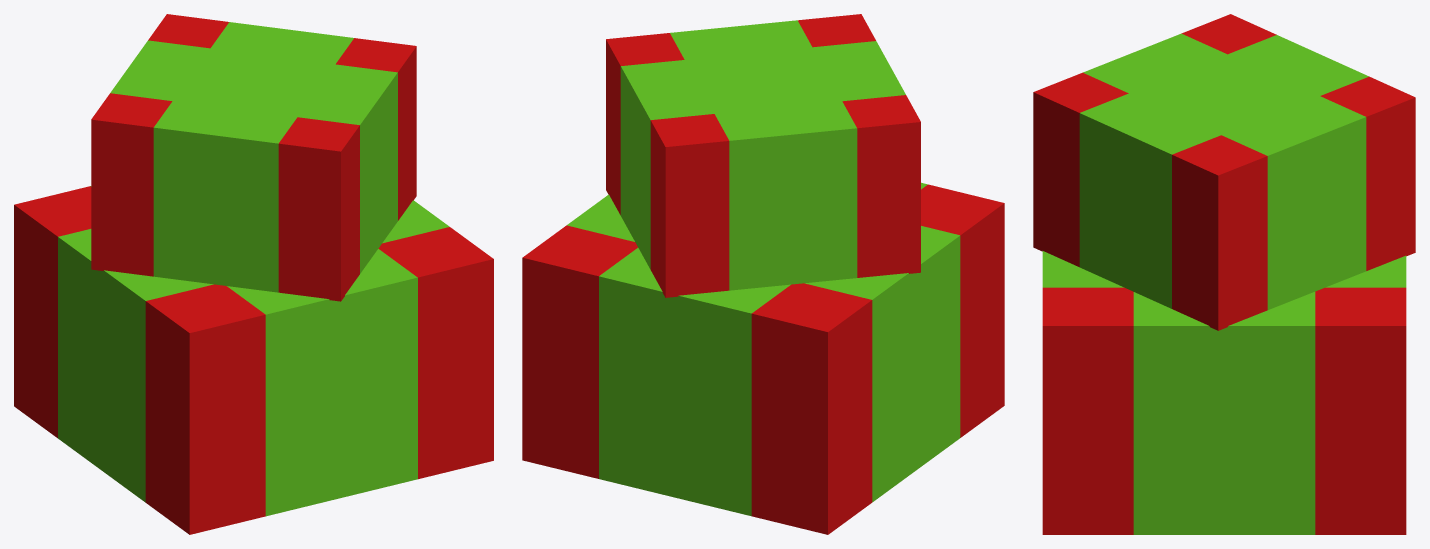
Rendered from gift.obj.
The picture shows the model from 3 angles, left to right: view 1: azimuth 30°, elevation 25°; view 2: azimuth 150°, elevation 25°; view 3: azimuth 270°, elevation 25°; orthographic projection. The views are drawn at different scales.
Parts seen in each view (by area): view 1: Cube.001_Cube.002, Cube.002_Cube.003; view 2: Cube.001_Cube.002, Cube.002_Cube.003; view 3: Cube.002_Cube.003, Cube.001_Cube.002.
Boxes of the visible parts, box(x1,y1,x2,y2) form: Cube.001_Cube.002: box(14, 186, 493, 534); Cube.002_Cube.003: box(91, 14, 416, 301); Cube.001_Cube.002: box(522, 182, 1004, 534); Cube.002_Cube.003: box(606, 14, 920, 297); Cube.002_Cube.003: box(1033, 14, 1415, 330); Cube.001_Cube.002: box(1042, 251, 1406, 534).
Bounding box in the file's own units: 0.2429 × 0.2548 × 0.2429.
